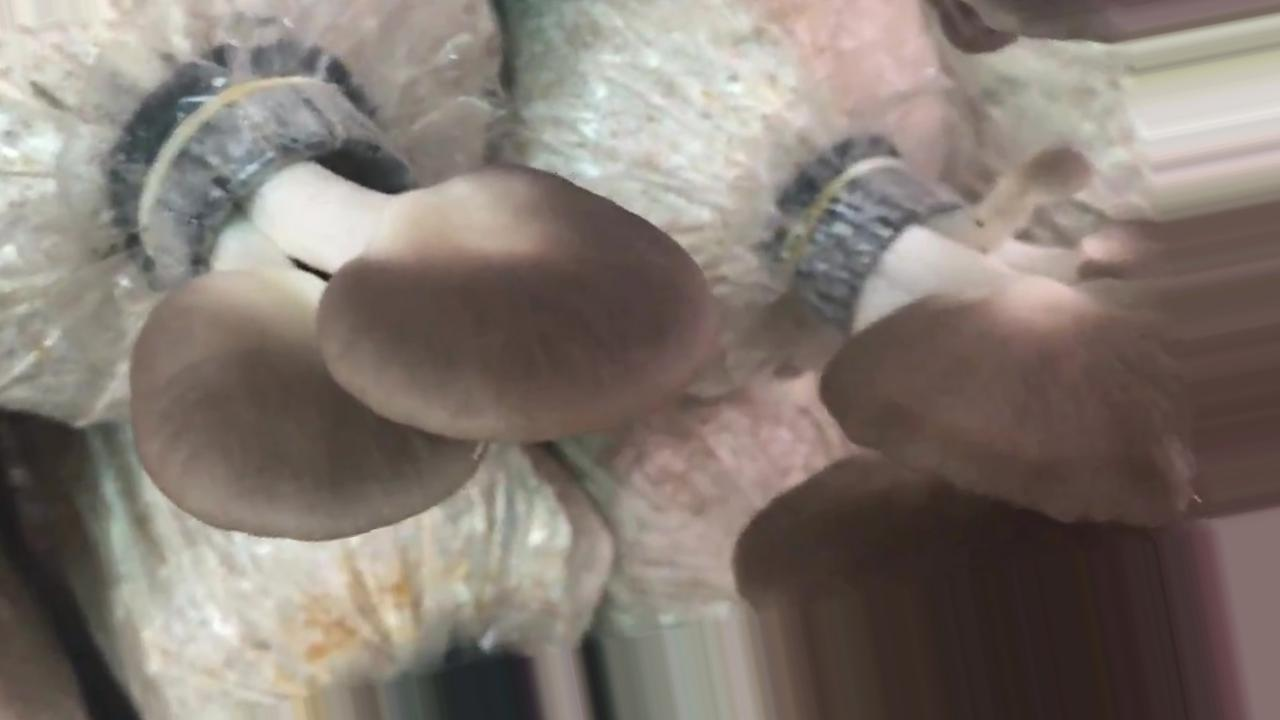nam: (127, 74, 713, 543), (731, 137, 1280, 528), (731, 452, 1248, 720)
